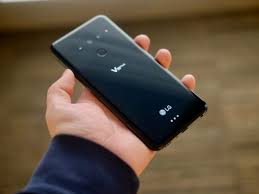lg: (49, 15, 210, 151)
